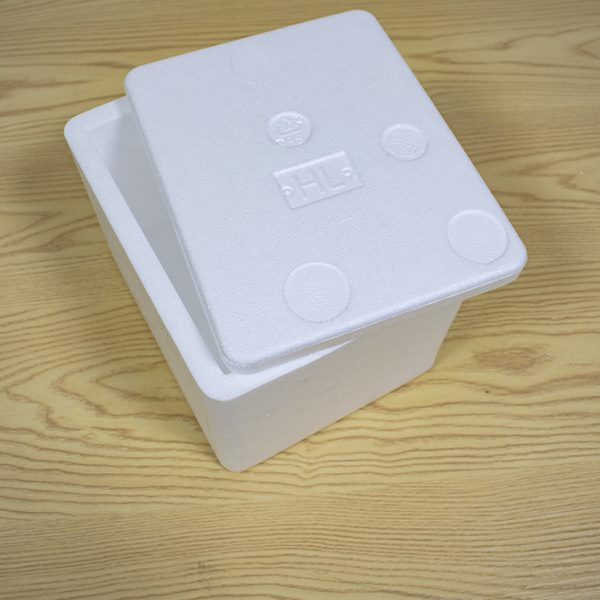泡沫箱: (65, 12, 525, 470)
